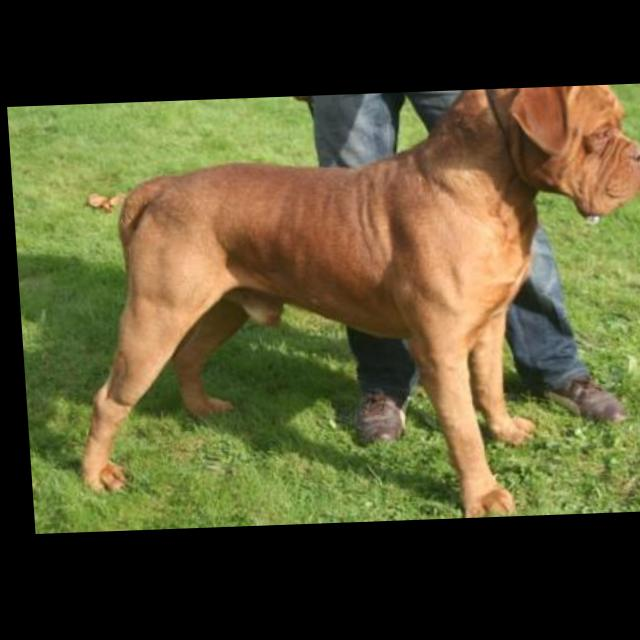dogue_de_bordeaux: (54, 89, 640, 533)
person: (275, 90, 620, 449)
